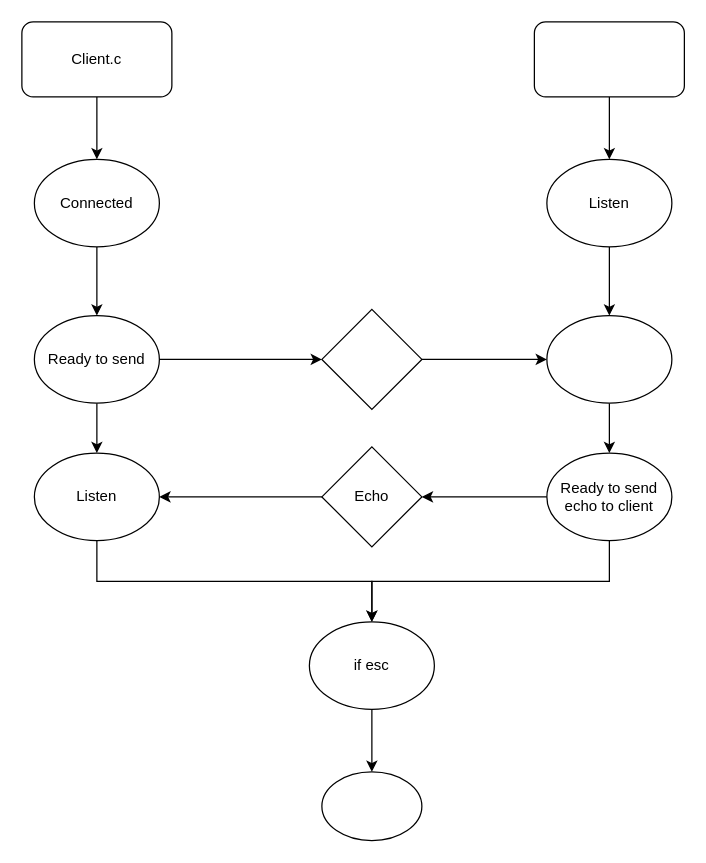
The diagram is 706 pixels wide and 863 high, and some of its shapes have lost their labels. Each missing label, with the centre of its shape:
"Close Sockets" goes at (371,806).
"Input" goes at (371,358).
"Ready to receive" goes at (609,358).
"Server.c" goes at (608,59).
